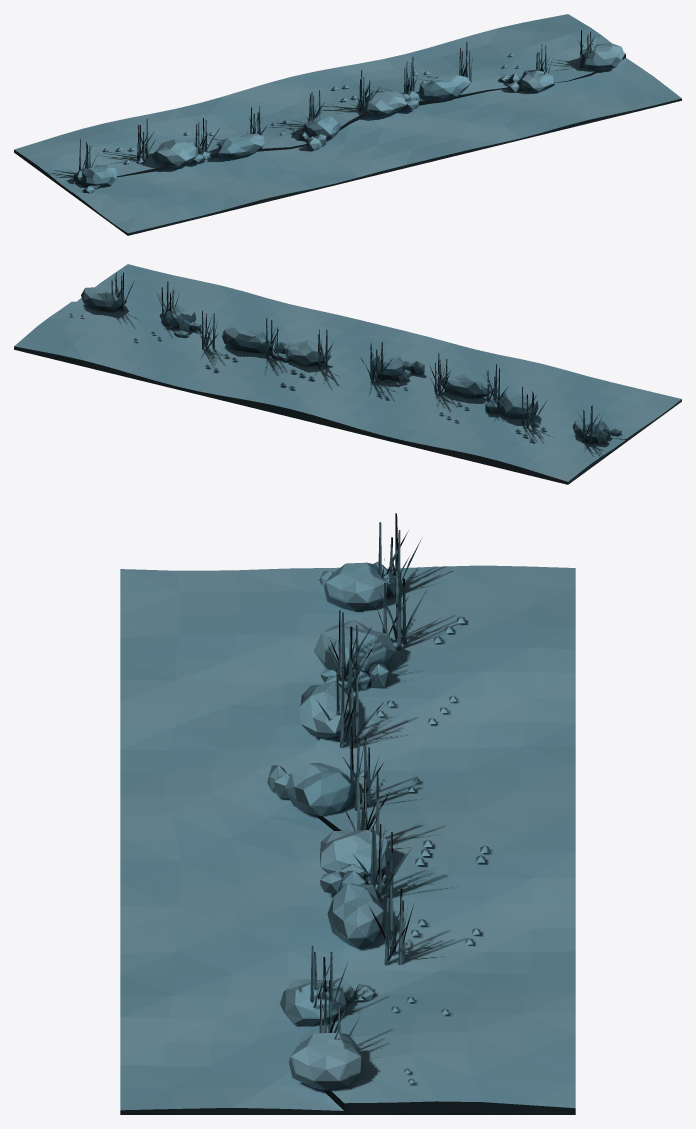
File: 0-20261016-1900-ev056-r11-exterior-lakeshore_baked.glb
3 views of the same model, one above another, from view 1: azimuth 30°, elevation 25°; view 2: azimuth 150°, elevation 25°; view 3: azimuth 270°, elevation 25° (orthographic). The views are drawn at different scales.
Visible parts, largest first — view 1: SW_Exterior_LakeShore; view 2: SW_Exterior_LakeShore; view 3: SW_Exterior_LakeShore.
Part boxes in pixels (x1,y1,x2,y2): SW_Exterior_LakeShore: (14, 14, 681, 235); SW_Exterior_LakeShore: (14, 264, 681, 484); SW_Exterior_LakeShore: (120, 513, 575, 1114).
Bounding box in the file's own units: 10 × 0.8088 × 3.56.
Materials: 1 (1 with a texture image).
